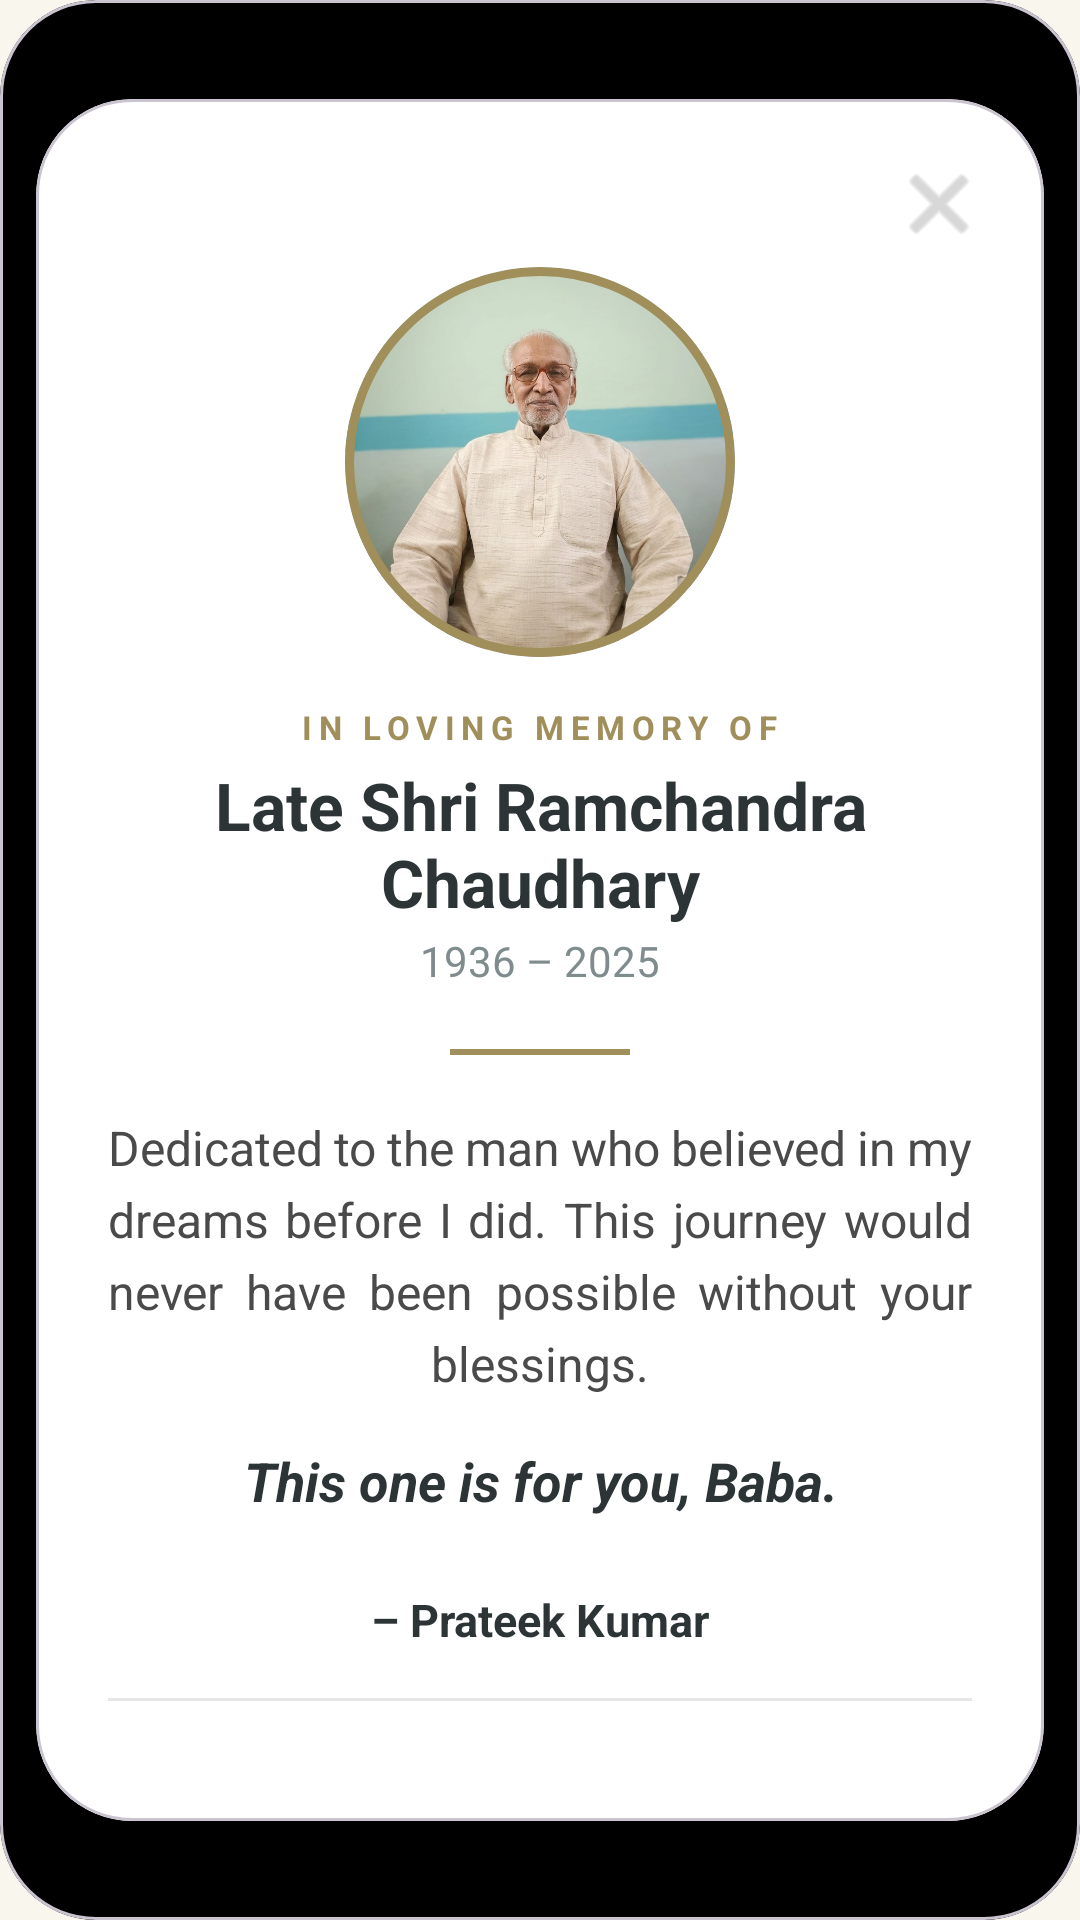

Where to tap for icons on this 1080w x 1920h app screen, as point (x, y):
close clear cancel: point (939, 204)
